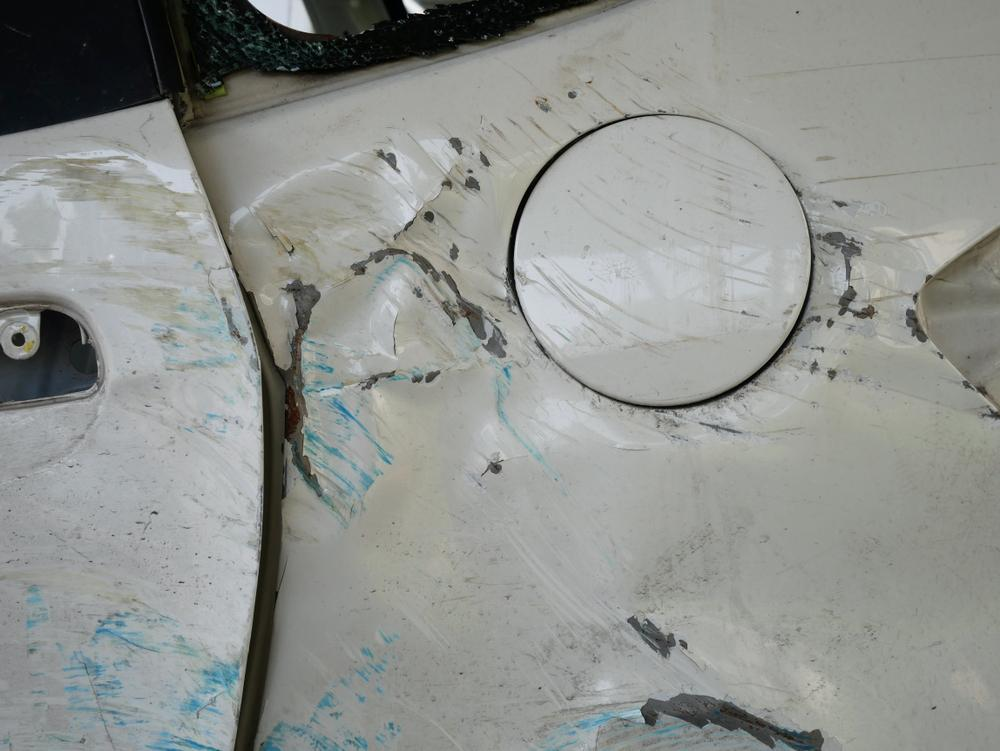dent: (238, 135, 505, 529), (0, 160, 257, 543)
scratch: (248, 612, 862, 751), (728, 193, 996, 423), (0, 576, 248, 751)
